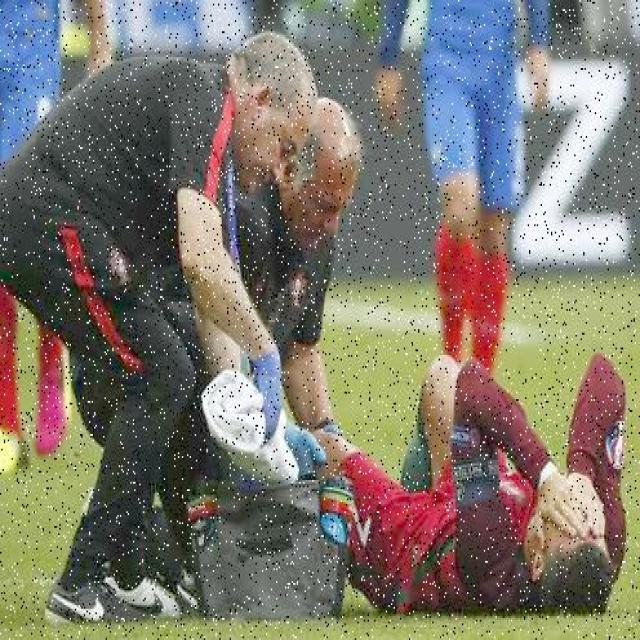fall: (332, 355, 628, 611)
